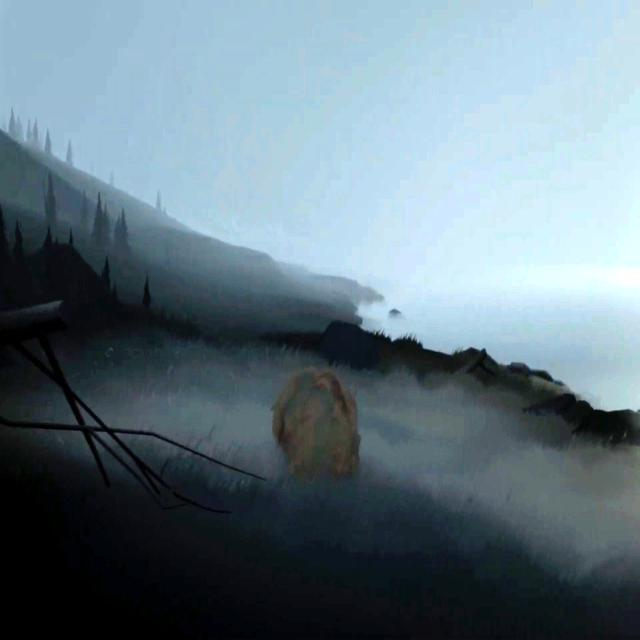blob: (273, 370, 363, 487)
